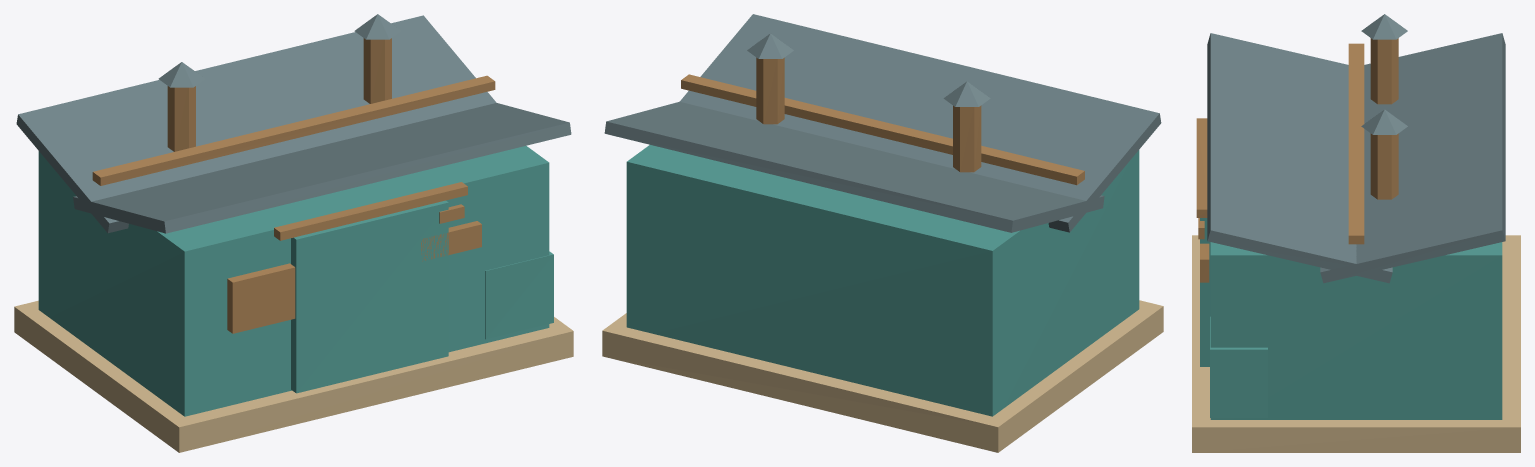
File: Hatchery.glb
3 views of the same model, side by side, from view 1: azimuth 30°, elevation 25°; view 2: azimuth 150°, elevation 25°; view 3: azimuth 270°, elevation 25° (orthographic).
Parts seen in each view (by area): view 1: wind-pump-static-hatchery-insulated-panel, wind-pump-static-hatchery-galvanized-roof, wind-pump-static-hatchery-stone-curb, wind-pump-static-hatchery-dark-technical-trim; view 2: wind-pump-static-hatchery-insulated-panel, wind-pump-static-hatchery-galvanized-roof, wind-pump-static-hatchery-stone-curb, wind-pump-static-hatchery-dark-technical-trim; view 3: wind-pump-static-hatchery-galvanized-roof, wind-pump-static-hatchery-insulated-panel, wind-pump-static-hatchery-stone-curb, wind-pump-static-hatchery-dark-technical-trim.
Boxes of the visible parts, x1,y1,x2,y2 form: wind-pump-static-hatchery-insulated-panel: (38,146,553,416); wind-pump-static-hatchery-galvanized-roof: (16,14,571,233); wind-pump-static-hatchery-stone-curb: (14,300,573,452); wind-pump-static-hatchery-dark-technical-trim: (92,38,495,333); wind-pump-static-hatchery-insulated-panel: (626,145,1139,416); wind-pump-static-hatchery-galvanized-roof: (604,14,1161,232); wind-pump-static-hatchery-stone-curb: (602,300,1163,452); wind-pump-static-hatchery-dark-technical-trim: (681,57,1084,185); wind-pump-static-hatchery-galvanized-roof: (1207,14,1505,283); wind-pump-static-hatchery-insulated-panel: (1200,218,1502,419); wind-pump-static-hatchery-stone-curb: (1192,235,1520,452); wind-pump-static-hatchery-dark-technical-trim: (1196,38,1398,282).
Size of the model in its own units: 2.98 by 2.08 by 2.1.
